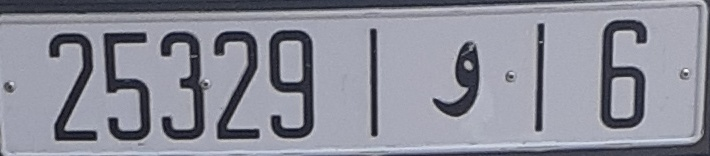2: (208, 26, 264, 145), (45, 28, 101, 145)
3: (152, 27, 208, 142)
5: (100, 27, 152, 145)
6: (596, 16, 650, 134)
9: (262, 28, 321, 142)
waw: (426, 37, 485, 121)
